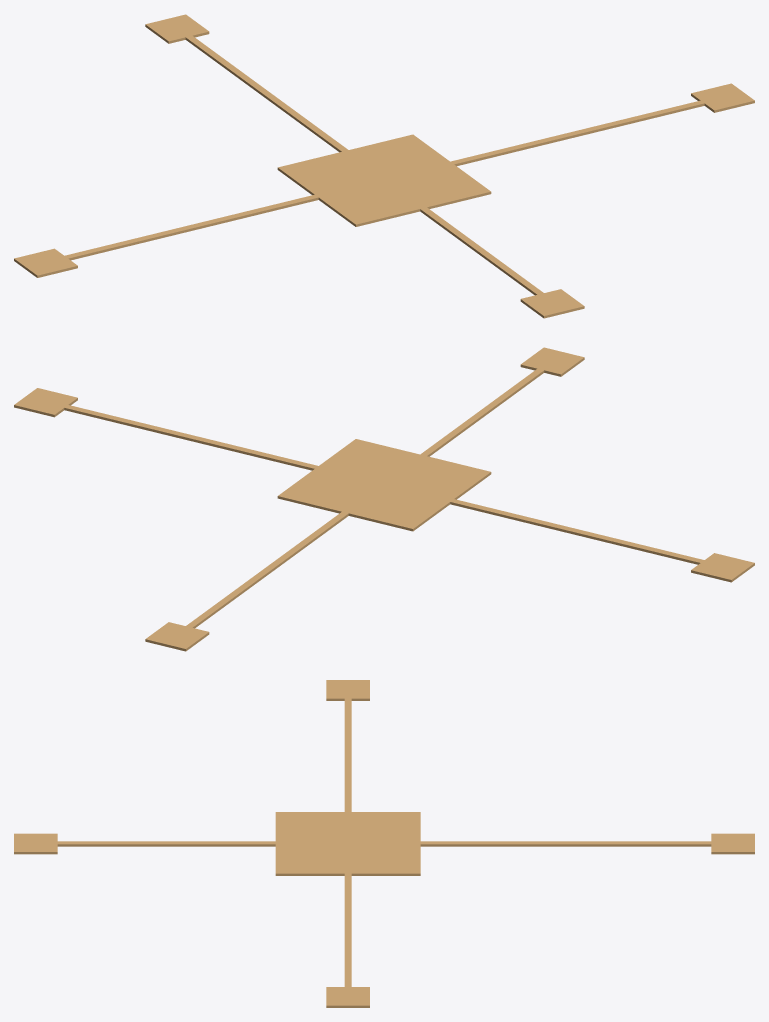
The model's file is board.glb.
The picture shows the model from 3 angles, top to bottom: view 1: azimuth 30°, elevation 25°; view 2: azimuth 150°, elevation 25°; view 3: azimuth 270°, elevation 25°; orthographic projection. The views are drawn at different scales.
Parts seen in each view (by area): view 1: Unified_Net_1_Island_0, Unified_Net_4_Island_2, Unified_Net_3_Island_1, Unified_Net_2_Island_3; view 2: Unified_Net_1_Island_0, Unified_Net_4_Island_2, Unified_Net_3_Island_1, Unified_Net_2_Island_3; view 3: Unified_Net_1_Island_0, Unified_Net_2_Island_3, Unified_Net_3_Island_1, Unified_Net_4_Island_2.
Boxes of the visible parts, x1,y1,x2,y2 form: Unified_Net_1_Island_0: [277, 134, 584, 318]; Unified_Net_4_Island_2: [14, 194, 318, 277]; Unified_Net_3_Island_1: [450, 83, 754, 166]; Unified_Net_2_Island_3: [145, 14, 348, 152]; Unified_Net_1_Island_0: [277, 347, 584, 531]; Unified_Net_4_Island_2: [450, 499, 754, 582]; Unified_Net_3_Island_1: [14, 388, 318, 470]; Unified_Net_2_Island_3: [145, 512, 348, 651]; Unified_Net_1_Island_0: [14, 812, 420, 875]; Unified_Net_2_Island_3: [420, 833, 754, 854]; Unified_Net_3_Island_1: [326, 873, 369, 1007]; Unified_Net_4_Island_2: [326, 680, 369, 811].
Bounding box in the file's own units: 0.0106 × 3.5e-05 × 0.0102.
